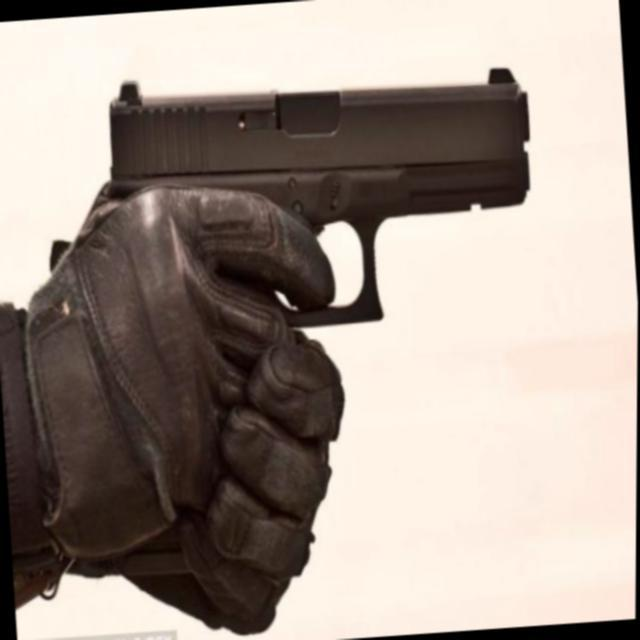weapon: (102, 41, 548, 344)
